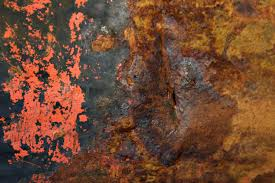rust: (121, 4, 275, 182), (35, 122, 269, 183), (88, 29, 118, 56)
